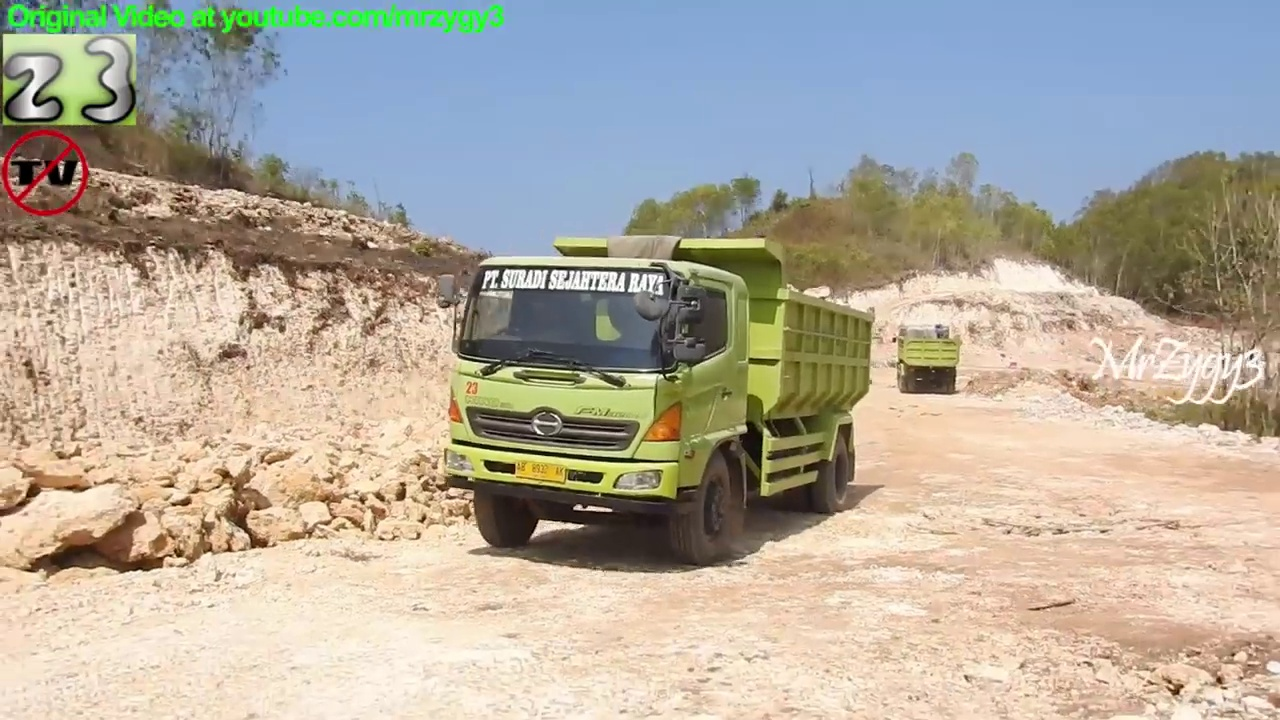truck: (434, 227, 877, 571), (892, 320, 964, 398)
